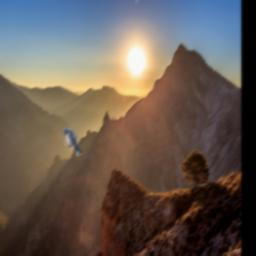Swallow: (64, 129, 83, 157)
